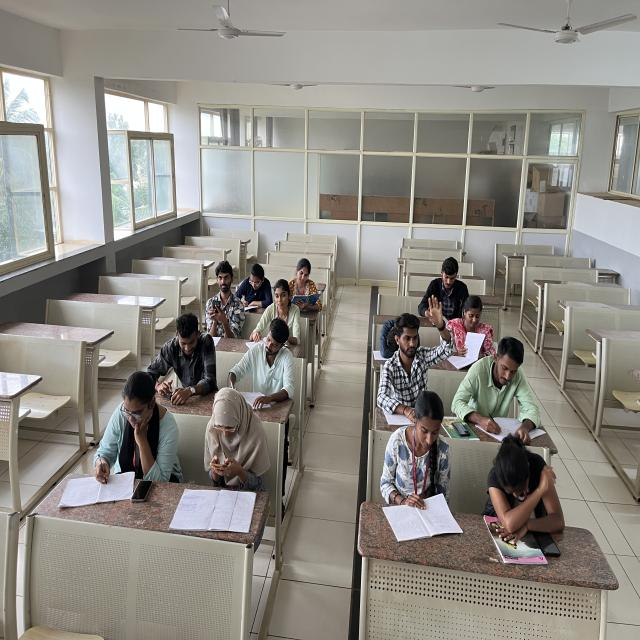Hand Rising: (363, 294, 447, 393)
Reading: (369, 388, 463, 540), (450, 293, 488, 360), (287, 258, 323, 308)
Sleeping: (481, 433, 567, 540)
Using Phone: (193, 384, 267, 510), (198, 255, 245, 333)
Writing: (90, 366, 180, 506), (448, 329, 550, 440), (223, 323, 296, 398), (237, 257, 272, 306)
